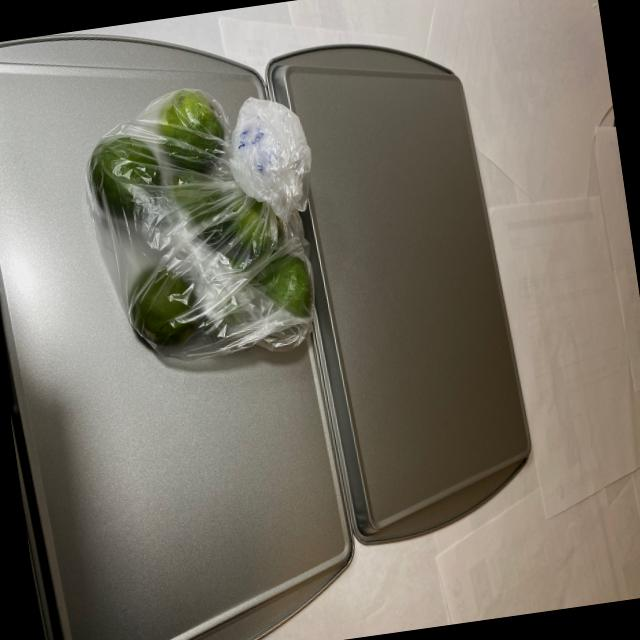lemon: (82, 80, 326, 384)
